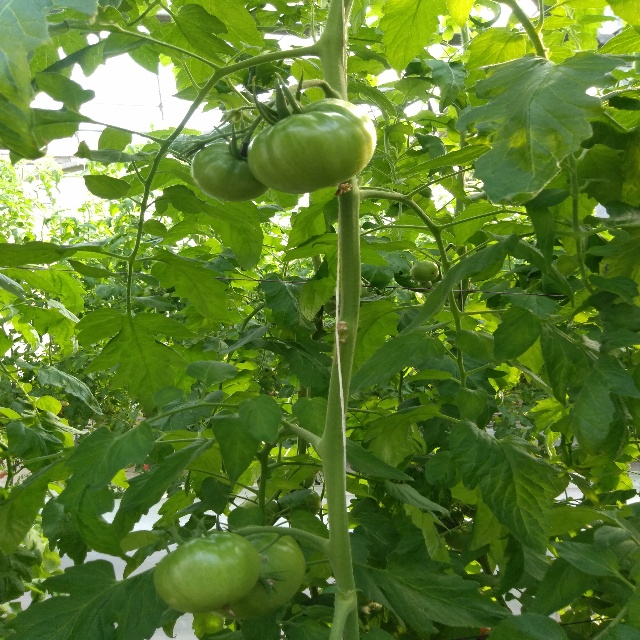b_green: (246, 98, 378, 195), (207, 525, 307, 620), (153, 531, 261, 613), (192, 142, 271, 202), (408, 260, 439, 283)
